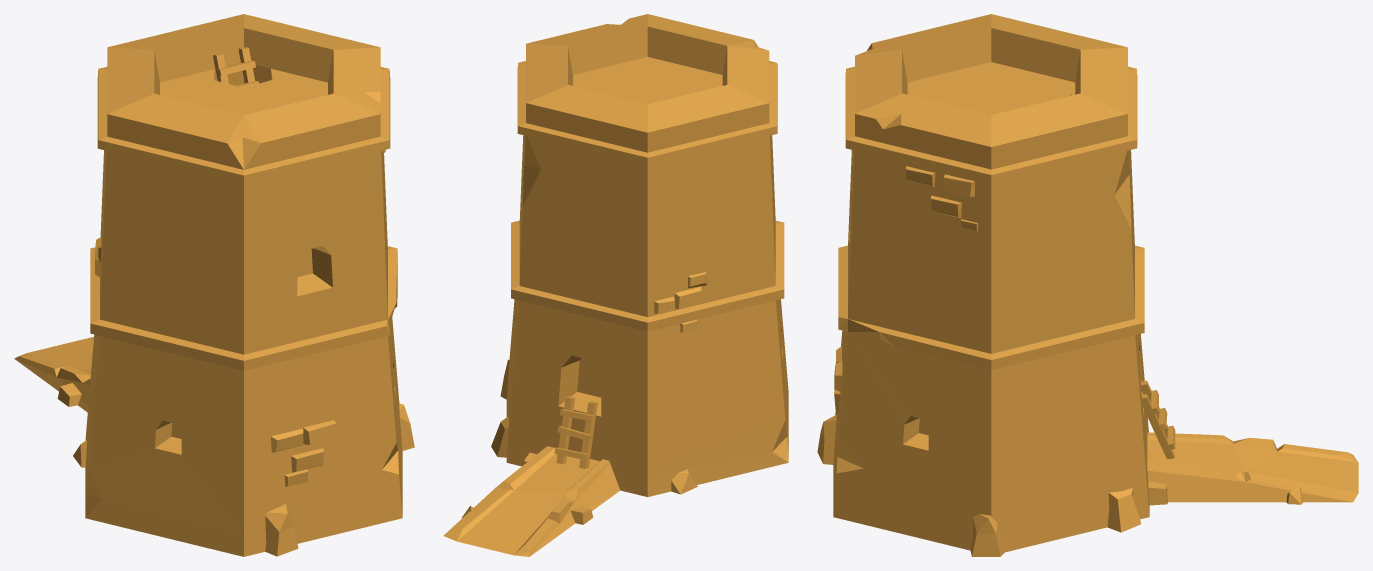
The model's file is pirates-tower-pirate-stone.glb.
The picture shows the model from 3 angles, left to right: view 1: azimuth 30°, elevation 25°; view 2: azimuth 150°, elevation 25°; view 3: azimuth 270°, elevation 25°; orthographic projection. The views are drawn at different scales.
Visible parts, largest first — view 1: tower-pirate-stone; view 2: tower-pirate-stone; view 3: tower-pirate-stone.
Boxes of the visible parts, <box> form: tower-pirate-stone: <box>14,14,414,556</box>; tower-pirate-stone: <box>443,14,788,556</box>; tower-pirate-stone: <box>817,14,1358,556</box>.
Size of the model in its own units: 5.33 by 6.5 by 7.83.
